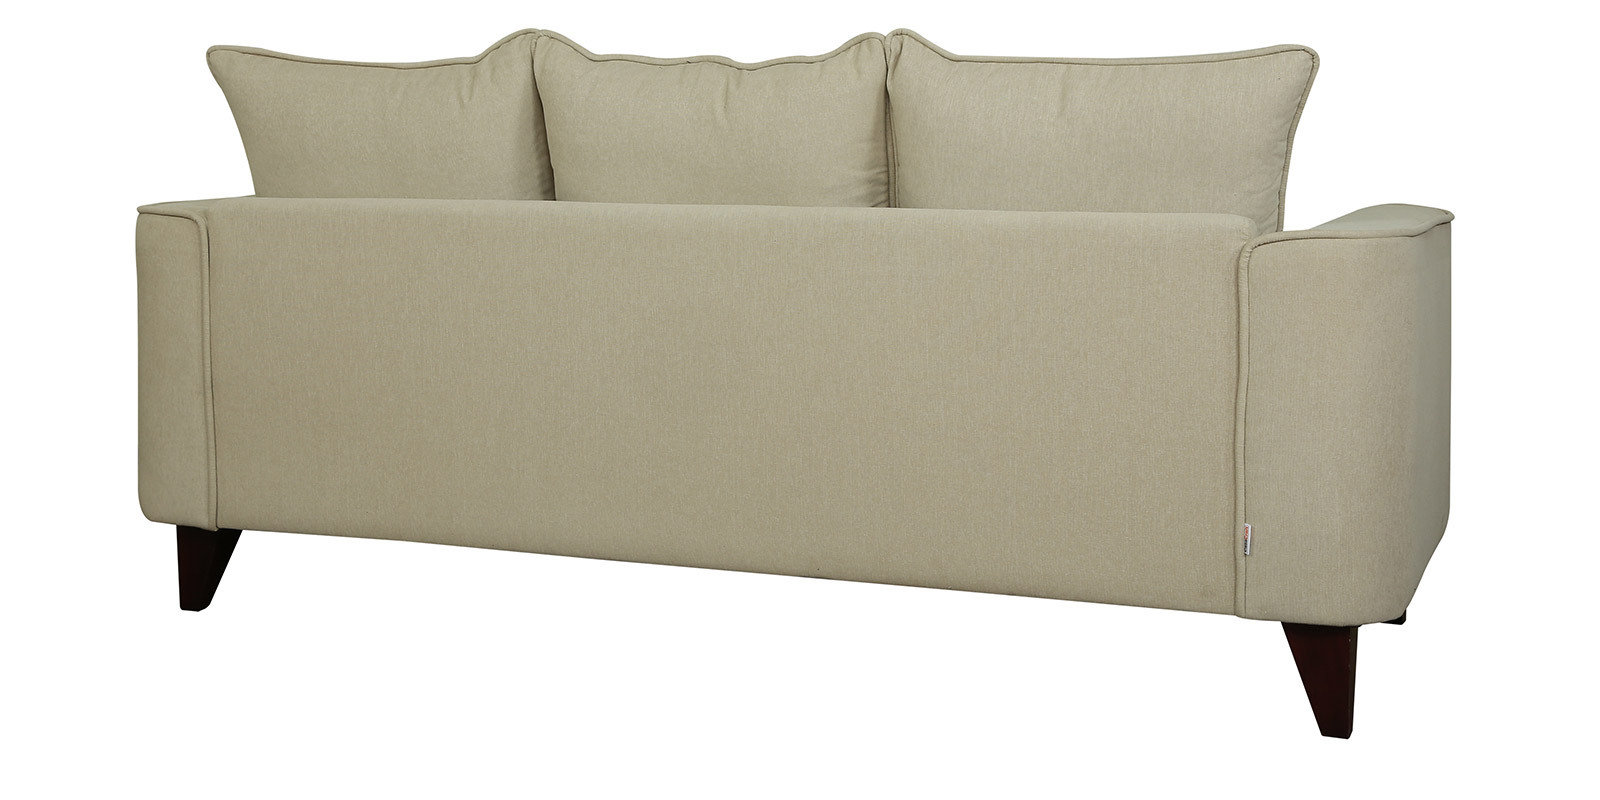Lara Three Seater Sofa in Beige Colour by CasaCraft: (134, 23, 1452, 739)
